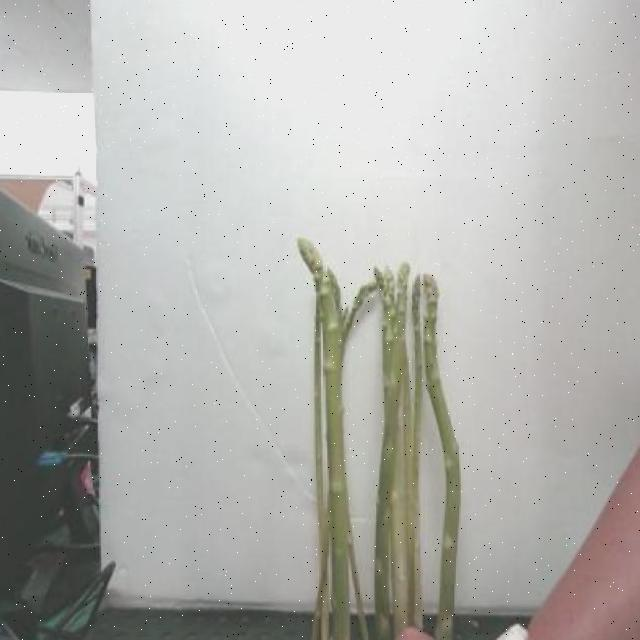aspargus: (296, 235, 352, 640), (423, 271, 463, 640)
